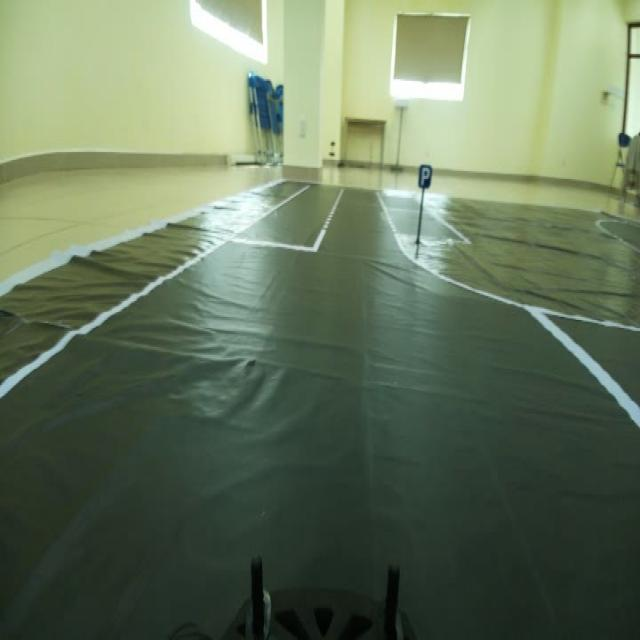parking: (412, 160, 437, 196)
